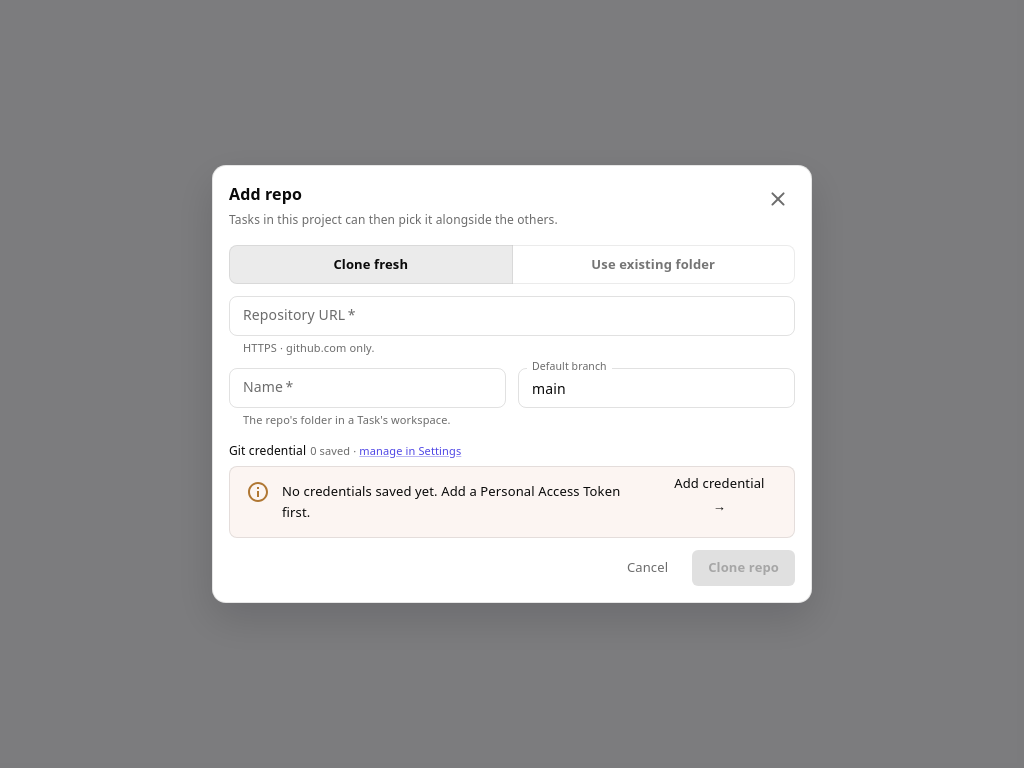
it: AddRepoDialog › clone mode: the name follows the URL and the branch defaults to main
Type "https://github.com/acme/Orion_Web.git" into the field labelled "Repository URL *".
click(512, 316); type("https://github.com/acme/Orion_Web.git")  # box left=229, top=296, right=795, bottom=336
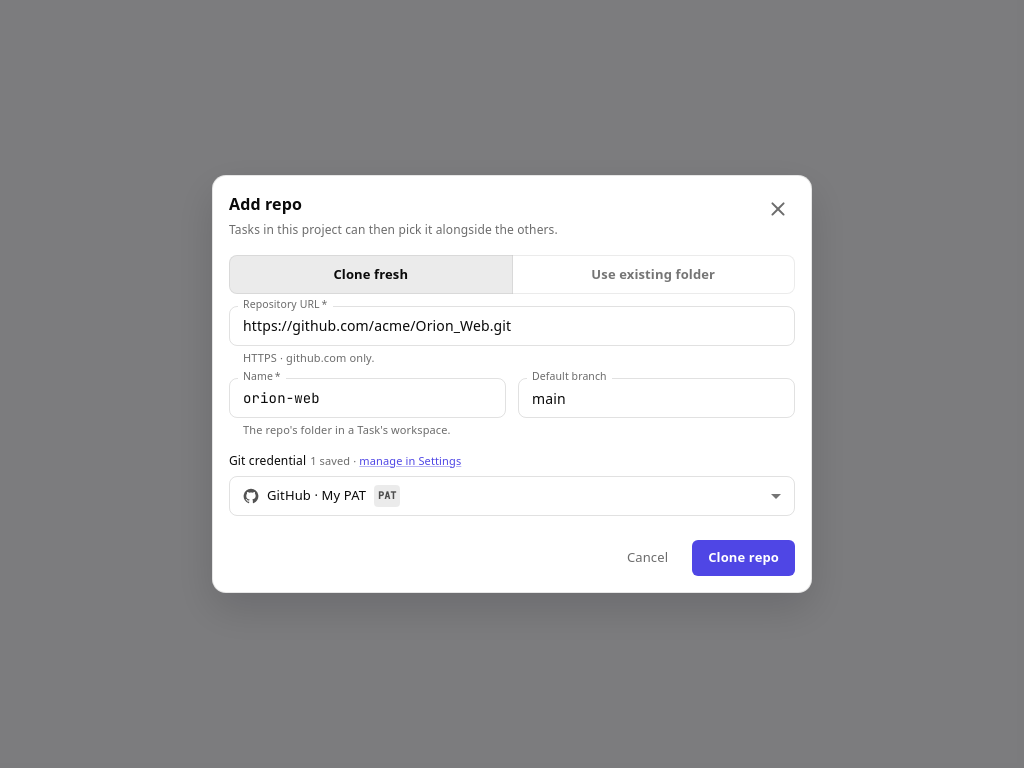
Expected: the field labelled "Default branch" holds "main", left=518, top=378, right=795, bottom=418
Result: the field labelled "Name *" holds "orion-web" at left=229, top=378, right=506, bottom=418
Result: the button "Clone repo" is enabled at left=692, top=540, right=795, bottom=576
